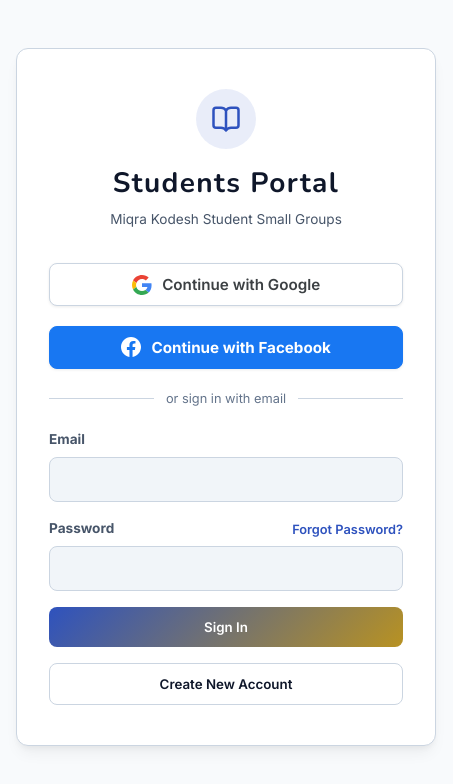
Test: Auth Component › rejects sign-up with invalid join code
# Switch to sign up
Step 1. Click the button "Create New Account" → (226, 684), box [49,663,403,705]
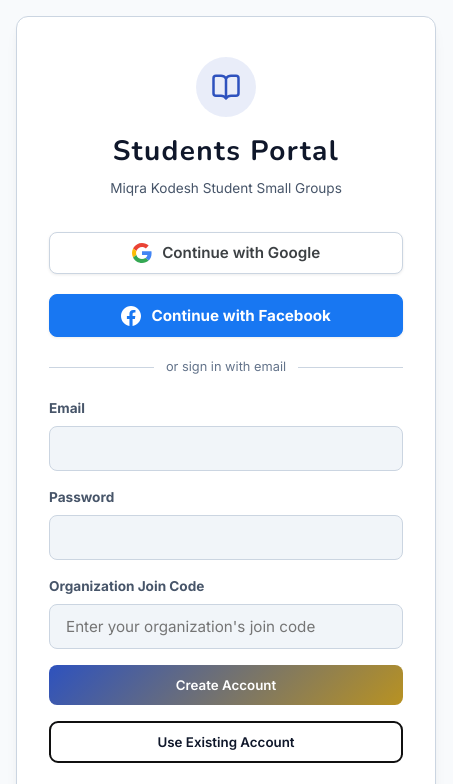
# Type fields
Step 2. Type "new@example.com" into the field labelled "Email" → (226, 448), box [49,426,403,471]
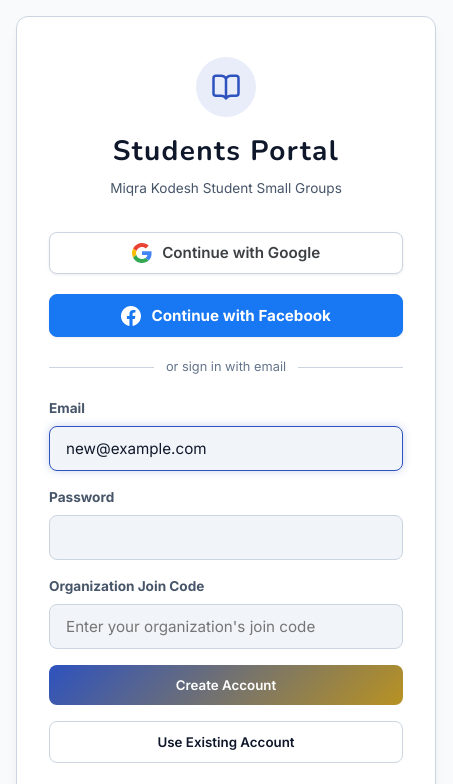
Step 3. Type "password123" into the password field labelled "Password" → (226, 537), box [49,515,403,560]
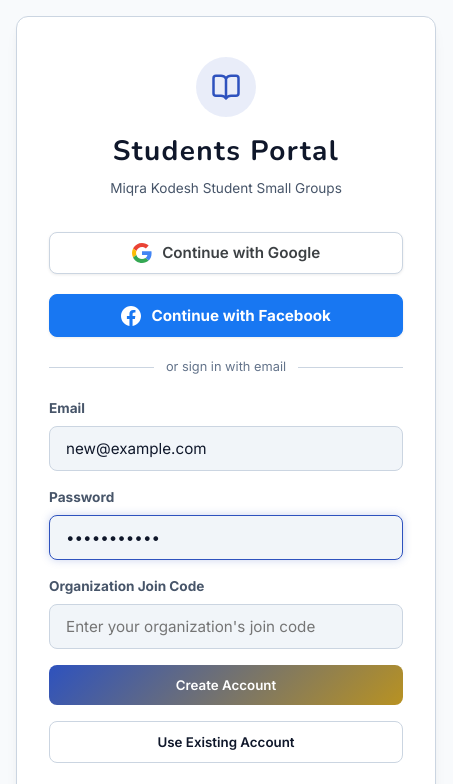
Step 4. Type "INVALID-CODE" into the field labelled "Organization Join Code" → (226, 626), box [49,604,403,649]
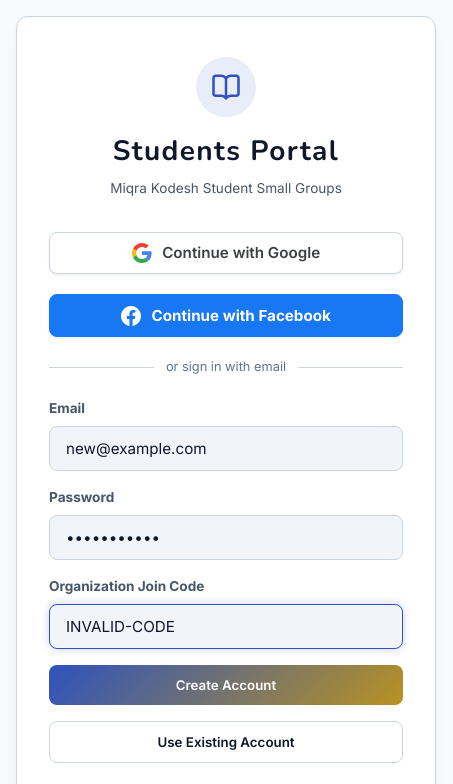
Step 5. Click the button "Create Account" → (226, 685), box [49,665,403,705]
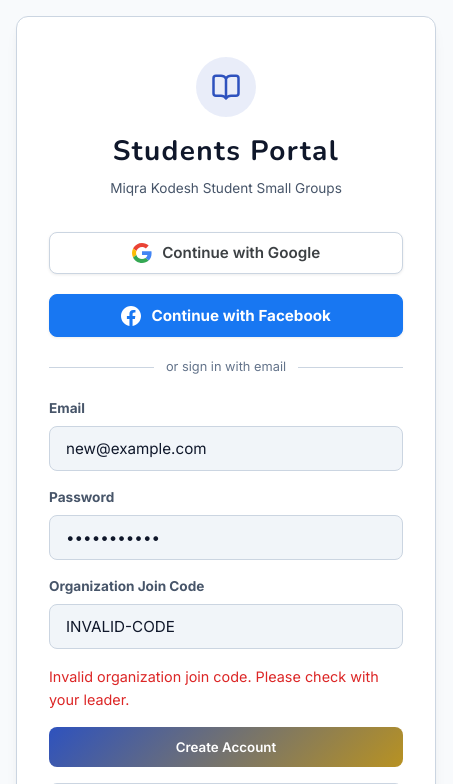
Check: the text "Invalid organization join code. Please check with your leader." is shown, box [49,665,403,711]
